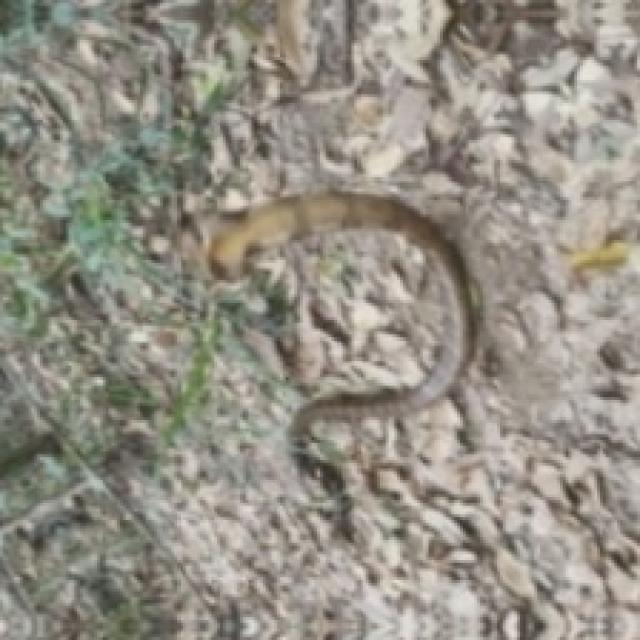king cobra: (209, 191, 474, 426)
